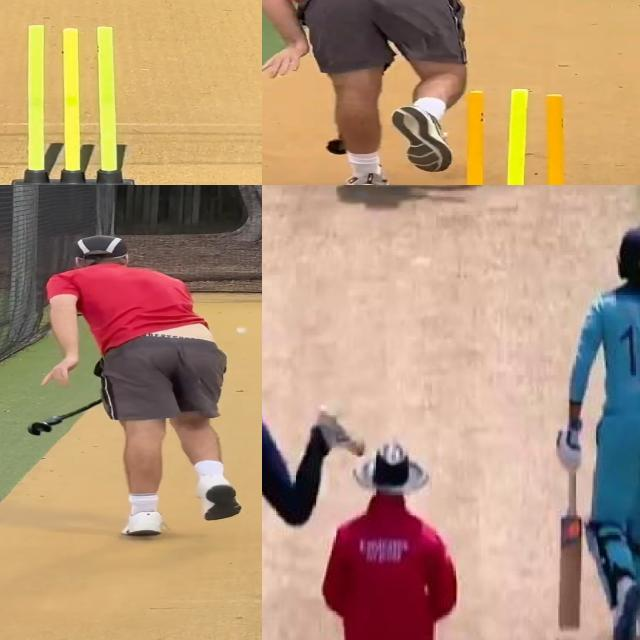Cricket ball: (234, 326, 248, 334)
Stumps: (451, 89, 582, 185)
